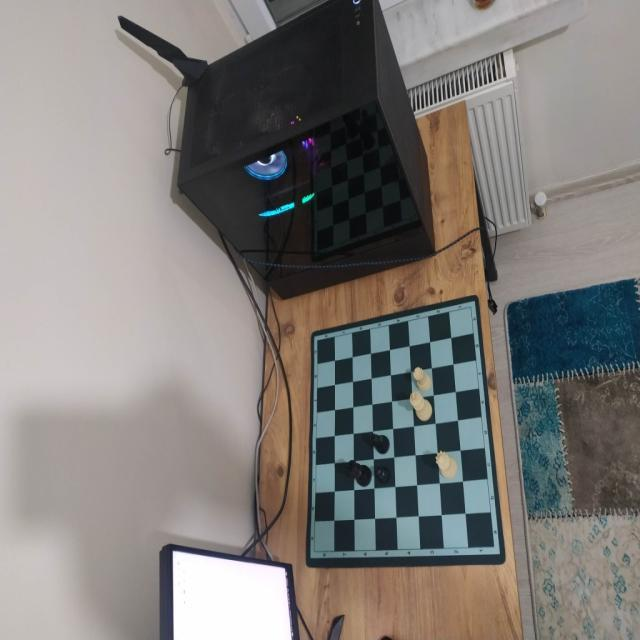chess-table-corners: (312, 332, 324, 349), (310, 546, 320, 558), (465, 302, 475, 313), (489, 542, 499, 552)
